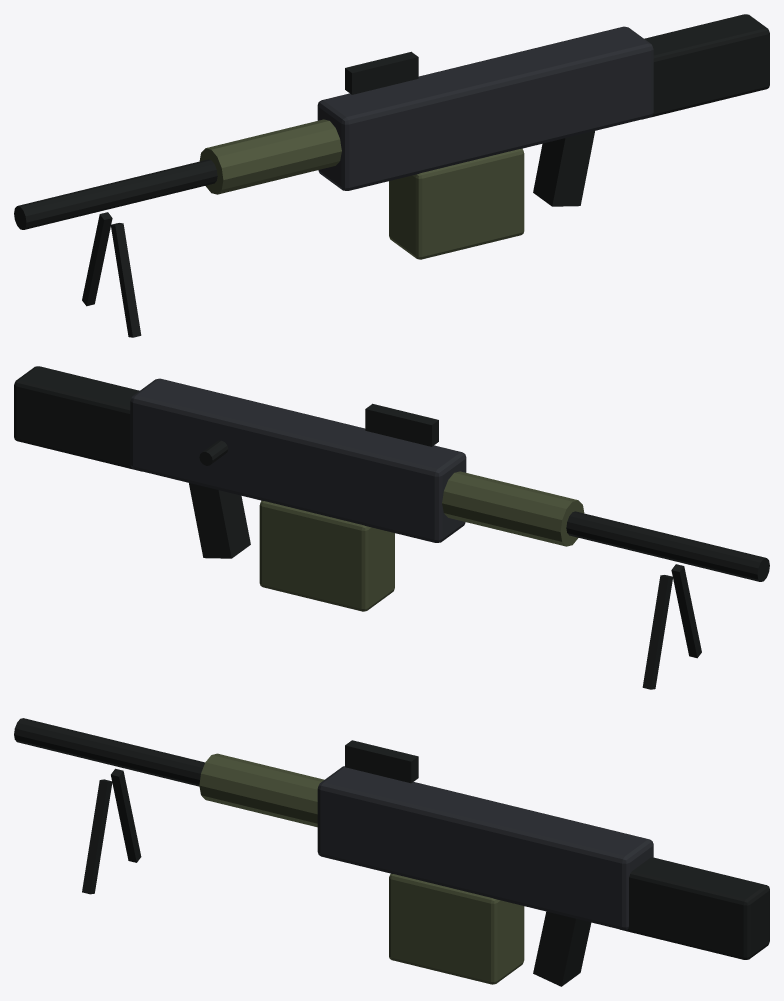
The model's file is LMG.obj.
3 renders of one model, top to bottom at view 1: azimuth 30°, elevation 25°; view 2: azimuth 150°, elevation 25°; view 3: azimuth 330°, elevation 25°, orthographic.
Parts seen in each view (by area): view 1: LMG_Receiver, LMG_AmmoBox, LMG_Stock, LMG_Shroud, LMG_Barrel, LMG_Grip, LMG_CarryHandle, LMG_BipodR, LMG_BipodL; view 2: LMG_Receiver, LMG_AmmoBox, LMG_Stock, LMG_Shroud, LMG_Barrel, LMG_Grip, LMG_CarryHandle, LMG_BipodL, LMG_BipodR; view 3: LMG_Receiver, LMG_AmmoBox, LMG_Stock, LMG_Shroud, LMG_Barrel, LMG_Grip, LMG_CarryHandle, LMG_BipodR, LMG_BipodL.
Boxes of the visible parts, x1=… form: LMG_Receiver: x1=317, y1=26, x2=653, y2=190; LMG_AmmoBox: x1=389, y1=148, x2=524, y2=259; LMG_Stock: x1=642, y1=14, x2=769, y2=119; LMG_Shroud: x1=199, y1=119, x2=341, y2=194; LMG_Barrel: x1=14, y1=159, x2=217, y2=229; LMG_Grip: x1=533, y1=131, x2=594, y2=206; LMG_CarryHandle: x1=345, y1=51, x2=418, y2=94; LMG_BipodR: x1=110, y1=223, x2=141, y2=337; LMG_BipodL: x1=82, y1=212, x2=112, y2=306; LMG_Receiver: x1=130, y1=378, x2=466, y2=542; LMG_AmmoBox: x1=259, y1=500, x2=394, y2=611; LMG_Stock: x1=14, y1=366, x2=141, y2=471; LMG_Shroud: x1=442, y1=471, x2=584, y2=546; LMG_Barrel: x1=566, y1=511, x2=769, y2=581; LMG_Grip: x1=189, y1=483, x2=250, y2=558; LMG_CarryHandle: x1=365, y1=403, x2=438, y2=446; LMG_BipodL: x1=642, y1=575, x2=673, y2=689; LMG_BipodR: x1=671, y1=564, x2=701, y2=658; LMG_Receiver: x1=317, y1=766, x2=653, y2=930; LMG_AmmoBox: x1=389, y1=873, x2=524, y2=984; LMG_Stock: x1=620, y1=857, x2=769, y2=959; LMG_Shroud: x1=199, y1=753, x2=324, y2=827; LMG_Barrel: x1=14, y1=718, x2=205, y2=786; LMG_Grip: x1=533, y1=911, x2=591, y2=986; LMG_CarryHandle: x1=345, y1=740, x2=418, y2=783; LMG_BipodR: x1=82, y1=779, x2=112, y2=894; LMG_BipodL: x1=111, y1=768, x2=141, y2=862.
Size of the model in its own units: 1.78 by 0.445 by 0.2316.
